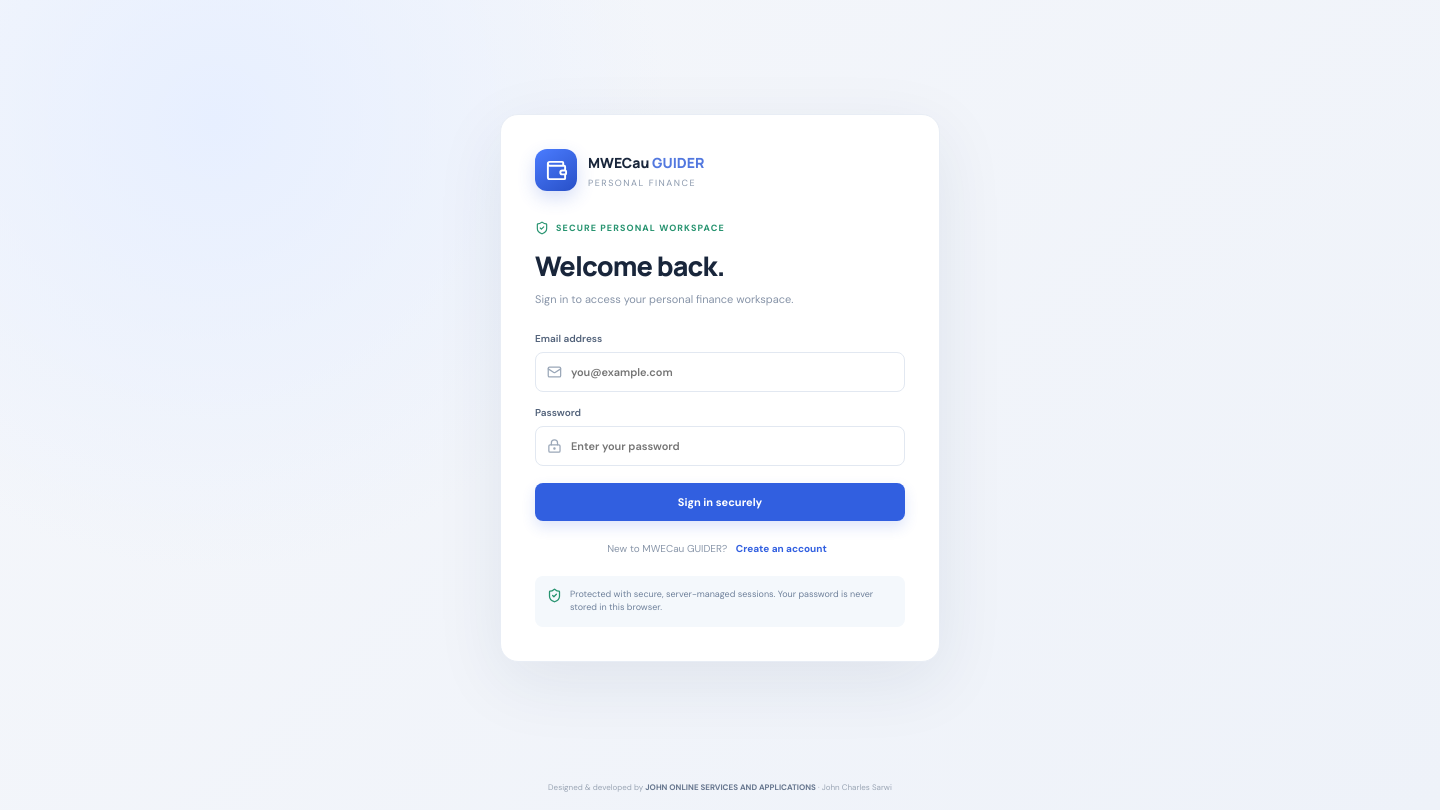
Scenario: MWECau GUIDER live finance workspace › restores the last saved dashboard snapshot when the finance API is unavailable
expect the heading "Welcome back." is shown: met, box [535,247,724,284]
Type "test@example.com" into the field labelled "Email address" at point(732, 372), box [571,353,893,391]
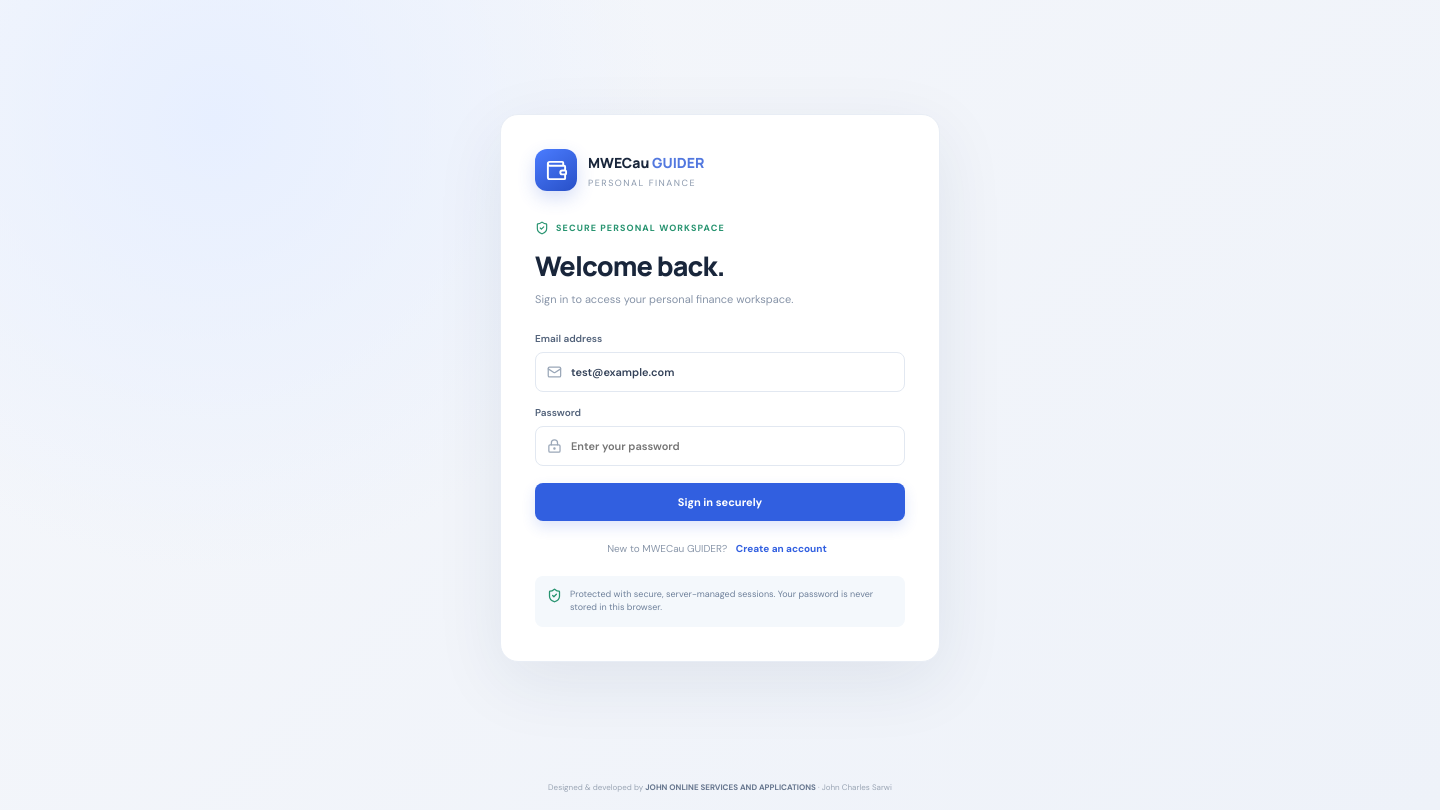
Type "test-password" into the password field labelled "Password" at point(732, 446), box [571,427,893,465]
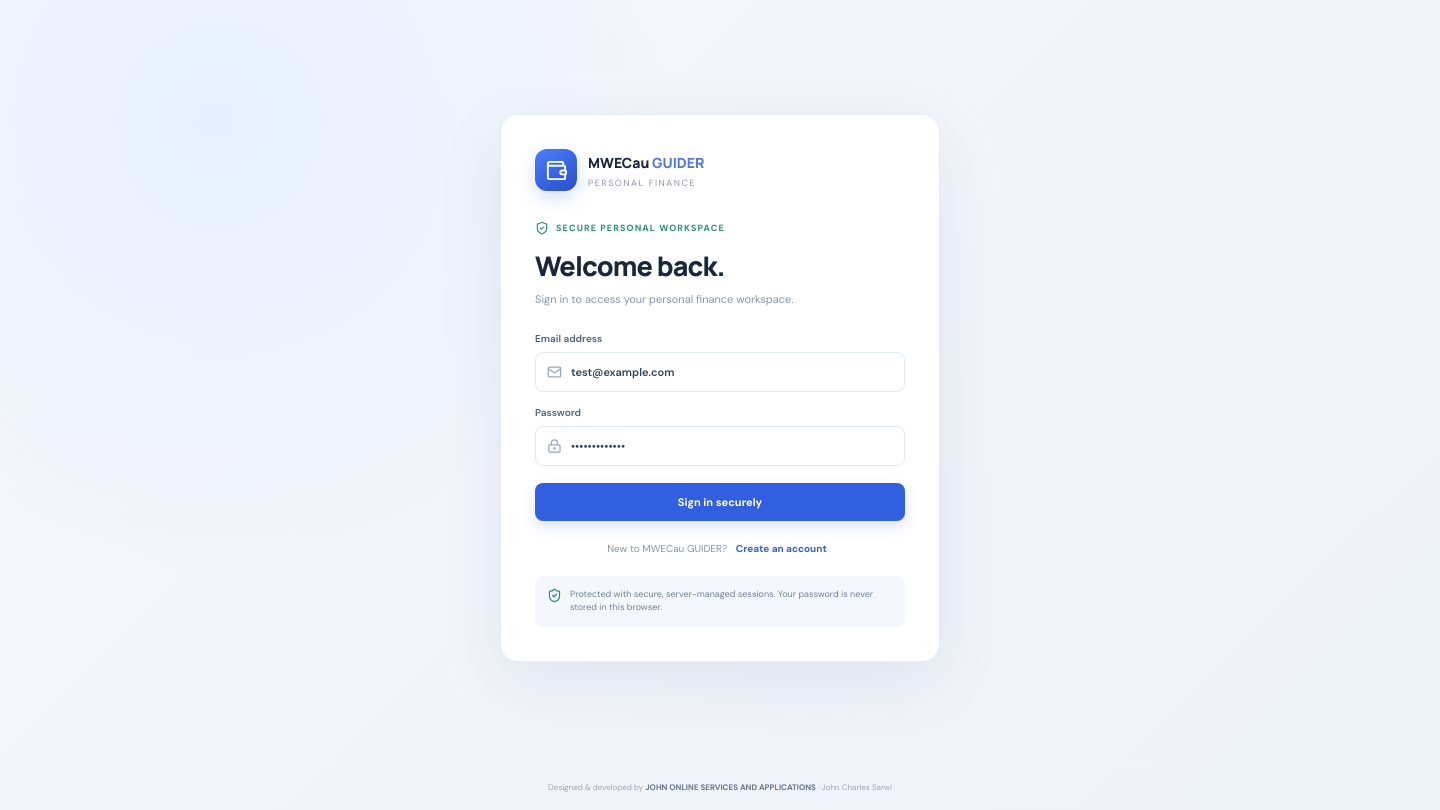
Click the button "Sign in securely" at point(720, 502), box [535,483,905,521]
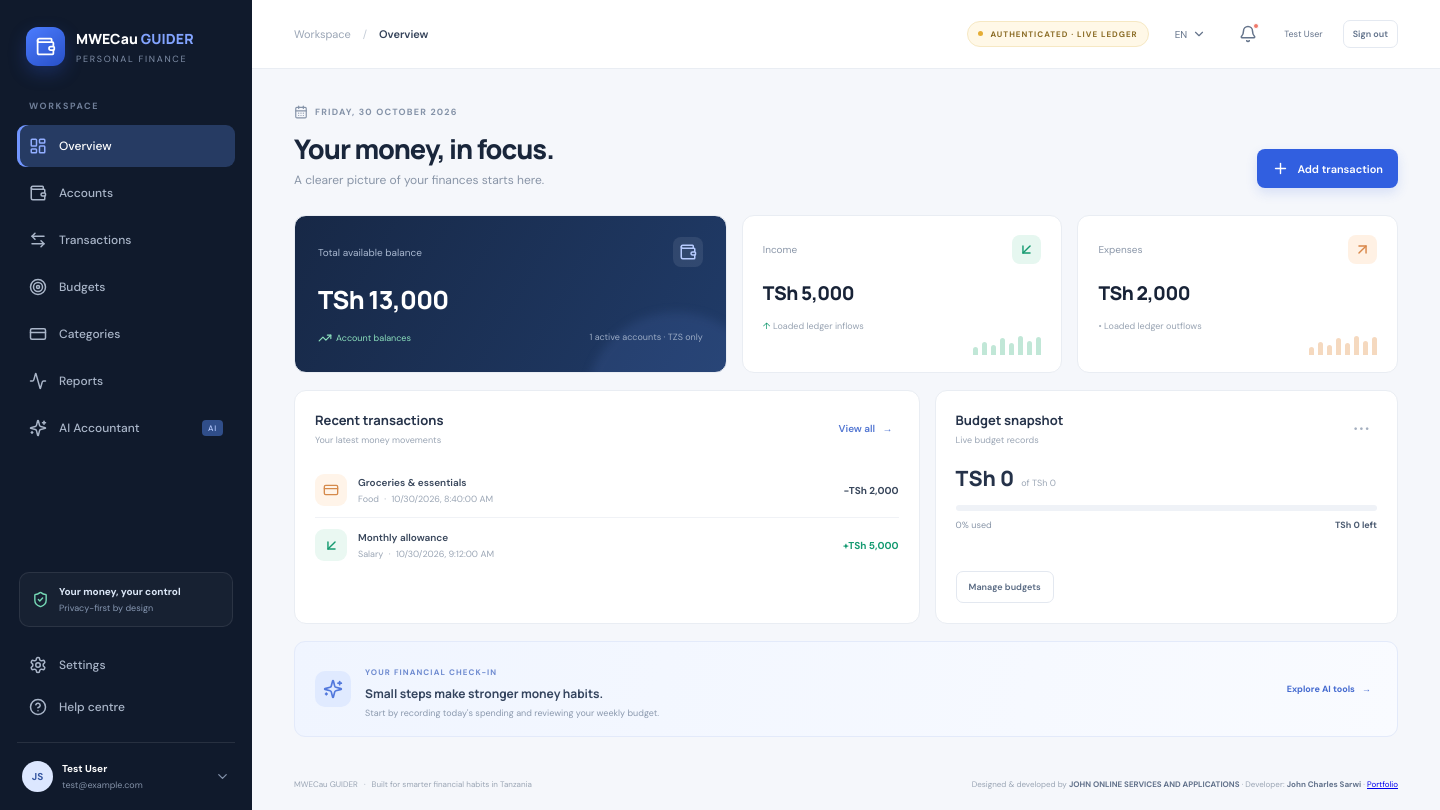
expect the heading "Your money, in focus." is shown: met, box [294,130,554,167]
expect the text "Groceries & essentials" is shown: met, box [358,476,466,488]
Click the button "Transactions" at point(126, 240), box [17,219,235,261]
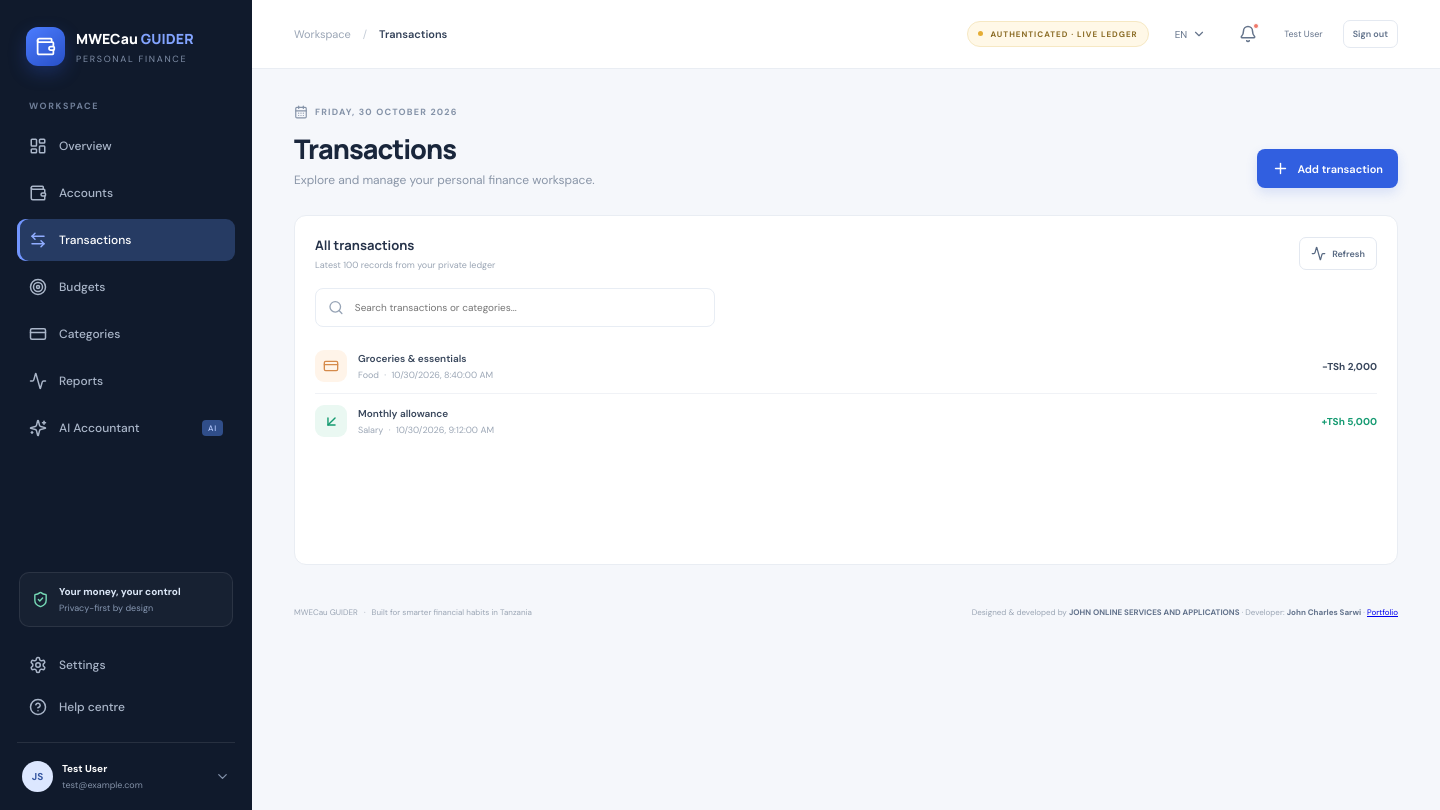
Click the button "Refresh" at point(1338, 254), box [1299,237,1377,270]
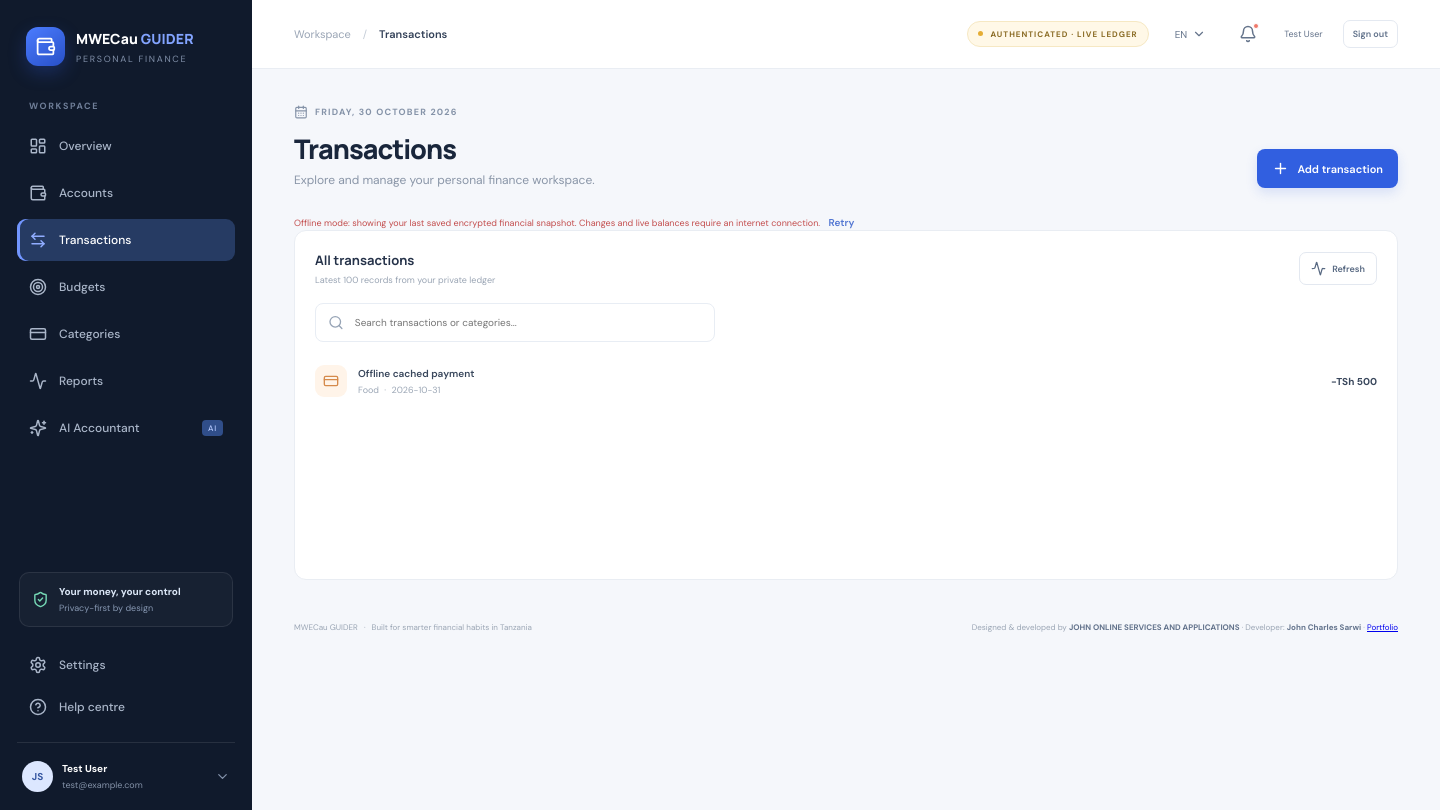
expect the text "Offline cached payment" is shown: met, box [358,366,474,380]
expect the text "Offline mode: showing your last saved encrypted financial snapshot" is shown: met, box [294,217,820,229]
